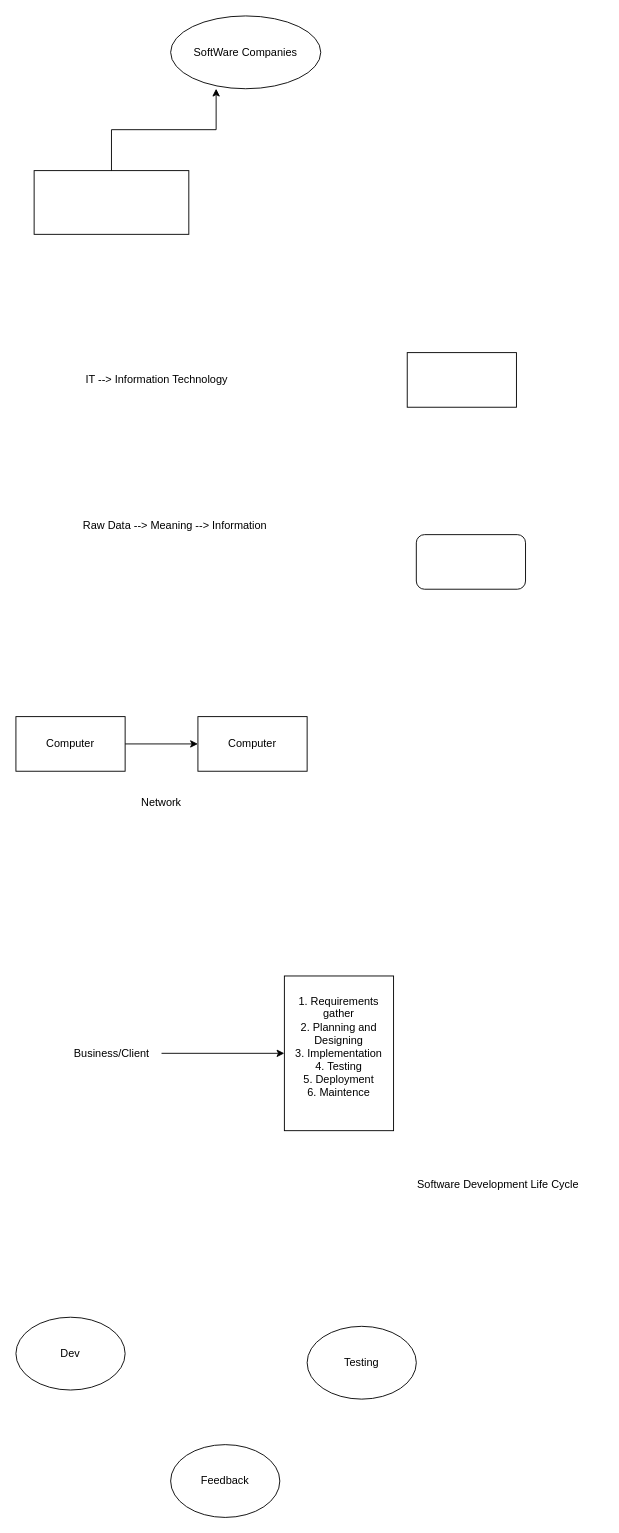
This 619x1533 diagram has some shape labels left out. The box of each missing label's shape, as (x1, y1, x2, y2) in pixels:
Client-Business Man: (33, 170, 189, 234)
Who can deliver the information: (415, 534, 526, 589)
Who needs information: (406, 352, 516, 407)
